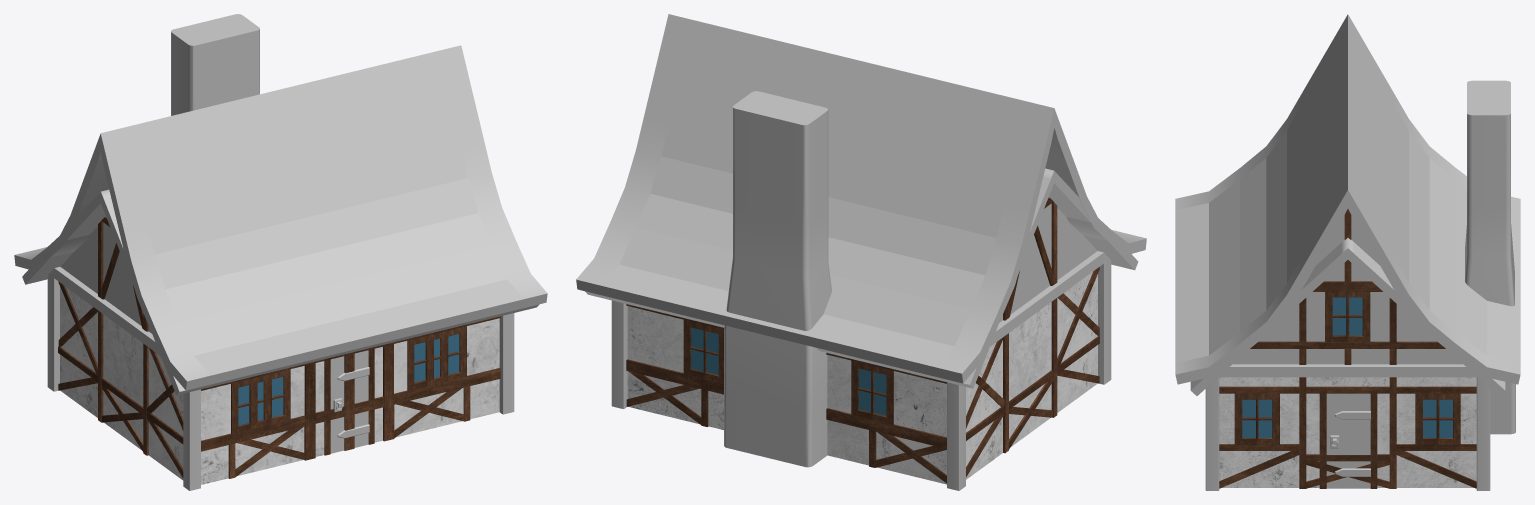
The model's file is Small House.fbx.
The picture shows the model from 3 angles, left to right: view 1: azimuth 30°, elevation 25°; view 2: azimuth 150°, elevation 25°; view 3: azimuth 270°, elevation 25°; orthographic projection. The views are drawn at different scales.
Visible parts, largest first — view 1: Roof_SMALL_Curved2, Small_House_1_Floor1, Chimney_Small5, Standard_Roof_Small3, Small_House_4_Beams_1Floor4, Long_Side_House_5, House_Small_Side_2_pCube14, House_Long_Side_3_Door4, Door_Dark5, WindowFinal20, WindowFinal23, WindowFinal24 (+2 smaller); view 2: Roof_SMALL_Curved2, Chimney_Small5, Small_House_1_Floor1, Small_House_4_Beams_1Floor4, Standard_Roof_Small3, Long_Side_House3, House_Small_Side_2_pCube14, WindowFinal22, WindowFinal21, House_CurvedRoof_Deco3; view 3: Roof_SMALL_Curved2, Small_House_1_Floor1, Chimney_Small5, House_Small_Side_8, Small_House_4_Beams_1Floor4, Door_Dark6, House_FlatRoof_Deco_Planks3, Standard_Roof_Small3, WindowFinal19, WindowFinal18, WindowFinal26, House_CurvedRoof_DecoWindow (+1 smaller).
Boxes of the visible parts, x1=… form: Roof_SMALL_Curved2: x1=14, y1=45, x2=547, y2=390; Small_House_1_Floor1: x1=60, y1=286, x2=499, y2=484; Chimney_Small5: x1=171, y1=14, x2=259, y2=115; Standard_Roof_Small3: x1=22, y1=189, x2=539, y2=395; Small_House_4_Beams_1Floor4: x1=47, y1=267, x2=514, y2=490; Long_Side_House_5: x1=201, y1=316, x2=500, y2=478; House_Small_Side_2_pCube14: x1=58, y1=281, x2=183, y2=477; House_Long_Side_3_Door4: x1=201, y1=342, x2=500, y2=460; Door_Dark5: x1=330, y1=350, x2=369, y2=453; WindowFinal20: x1=251, y1=369, x2=290, y2=426; WindowFinal23: x1=407, y1=331, x2=447, y2=390; WindowFinal24: x1=427, y1=326, x2=466, y2=383; Roof_SMALL_Curved2: x1=576, y1=14, x2=1146, y2=383; Chimney_Small5: x1=724, y1=91, x2=831, y2=467; Small_House_1_Floor1: x1=627, y1=271, x2=1097, y2=484; Small_House_4_Beams_1Floor4: x1=611, y1=251, x2=1111, y2=490; Standard_Roof_Small3: x1=585, y1=168, x2=1138, y2=388; Long_Side_House3: x1=626, y1=304, x2=946, y2=483; House_Small_Side_2_pCube14: x1=966, y1=267, x2=1099, y2=477; WindowFinal22: x1=851, y1=360, x2=893, y2=424; WindowFinal21: x1=683, y1=320, x2=723, y2=383; House_CurvedRoof_Deco3: x1=1003, y1=197, x2=1057, y2=320; Roof_SMALL_Curved2: x1=1175, y1=14, x2=1520, y2=384; Small_House_1_Floor1: x1=1219, y1=377, x2=1476, y2=487; Chimney_Small5: x1=1465, y1=80, x2=1515, y2=434; House_Small_Side_8: x1=1219, y1=377, x2=1476, y2=488; Small_House_4_Beams_1Floor4: x1=1205, y1=364, x2=1490, y2=490; Door_Dark6: x1=1326, y1=393, x2=1370, y2=488; House_FlatRoof_Deco_Planks3: x1=1250, y1=260, x2=1445, y2=364; Standard_Roof_Small3: x1=1190, y1=238, x2=1505, y2=395; WindowFinal19: x1=1415, y1=393, x2=1460, y2=444; WindowFinal18: x1=1234, y1=393, x2=1279, y2=444; WindowFinal26: x1=1325, y1=292, x2=1370, y2=342; House_CurvedRoof_DecoWindow: x1=1251, y1=209, x2=1443, y2=348.
Bounding box in the file's own units: 9.21 × 7.73 × 7.64.
